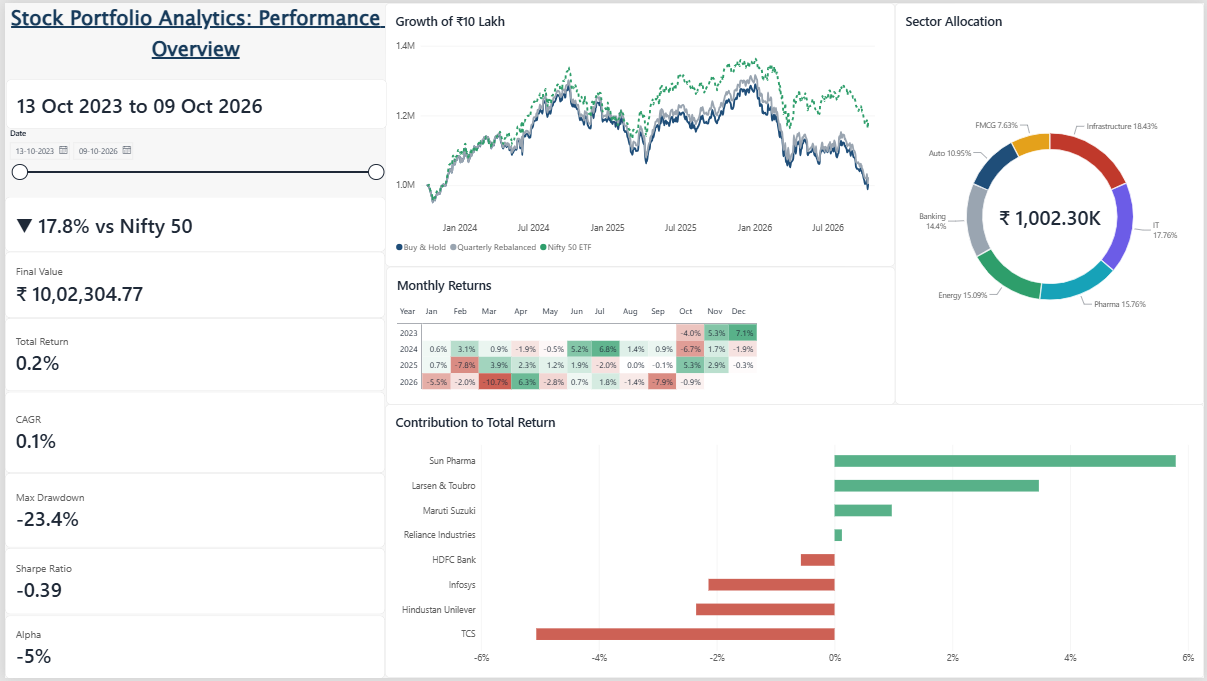

What the dashboard file says about the page in this screenshot:
{"tool":"powerbi","page":{"name":"Performance Overview","canvas":[1920,1080],"ordinal":0},"visuals":[{"type":"textbox","box":[1.8,0,606.2,121.2],"z":0},{"type":"slicer","fields":{"Values":["Calendar.Date"]},"box":[0,200.9,609.9,121.2],"z":1000},{"type":"cardVisual","fields":{"Data":["_Measures.Final Value"]},"box":[0,398.1,608,106.8],"z":2000},{"type":"cardVisual","fields":{"Data":["_Measures.Total Return"]},"box":[0,504.9,608,117.6],"z":3000},{"type":"cardVisual","fields":{"Data":["_Measures.CAGR"]},"box":[0,622.5,608,130.3],"z":4000},{"type":"cardVisual","fields":{"Data":["_Measures.Sharpe Ratio"]},"box":[0,872.3,608,106.8],"z":5000},{"type":"cardVisual","fields":{"Data":["_Measures.Max Drawdown"]},"box":[0,752.8,608,119.4],"z":6000},{"type":"cardVisual","fields":{"Data":["_Measures.Alpha"]},"box":[0,979,608,101.3],"z":7000},{"type":"lineChart","title":"Growth of ₹10 Lakh","fields":{"Category":["Calendar.Date"],"Y":["Sum(portfolio_timeseries.Portfolio_Value)","Sum(portfolio_timeseries.Rebalanced_Value)","Sum(portfolio_timeseries.Benchmark_Value)"]},"box":[608,0,816.2,421.7],"z":8000},{"type":"pivotTable","title":"Monthly Returns","fields":{"Columns":["monthly_returns.Month"],"Rows":["monthly_returns.Year"],"Values":["Sum(monthly_returns.Portfolio_Return)"]},"box":[609.9,421.7,814.3,220.8],"z":9000},{"type":"cardVisual","fields":{"Data":["_Measures.Period Label"]},"box":[1.8,121.2,609.9,79.6],"z":10000},{"type":"clusteredBarChart","title":"Contribution to Total Return","fields":{"Category":["stock_summary.Company"],"Y":["Sum(stock_summary.Return_Contribution)"]},"box":[608,642.4,1312,437.9],"z":10001},{"type":"donutChart","title":"Sector Allocation","fields":{"Category":["sector_allocation.Sector"],"Y":["Sum(sector_allocation.Current_Value)"]},"box":[1424.2,0,495.8,642.4],"z":10002},{"type":"cardVisual","fields":{"Data":["_Measures.Outperformance Label"]},"box":[0,309.5,609.9,88.7],"z":10003}]}

Visuals, with their boxes in screenshot pixels (x1, y1, x2, y2), scaled from the page's 1920x1080 canvas onto the 1207x681 screenshot:
textbox: 1:0:382:76
slicer - Calendar.Date: 0:127:383:203
cardVisual - _Measures.Final Value: 0:251:382:318
cardVisual - _Measures.Total Return: 0:318:382:393
cardVisual - _Measures.CAGR: 0:393:382:475
cardVisual - _Measures.Sharpe Ratio: 0:550:382:617
cardVisual - _Measures.Max Drawdown: 0:475:382:550
cardVisual - _Measures.Alpha: 0:617:382:680
"Growth of ₹10 Lakh" lineChart: 382:0:895:266
"Monthly Returns" pivotTable: 383:266:895:405
cardVisual - _Measures.Period Label: 1:76:385:127
"Contribution to Total Return" clusteredBarChart: 382:405:1206:680
"Sector Allocation" donutChart: 895:0:1206:405
cardVisual - _Measures.Outperformance Label: 0:195:383:251
